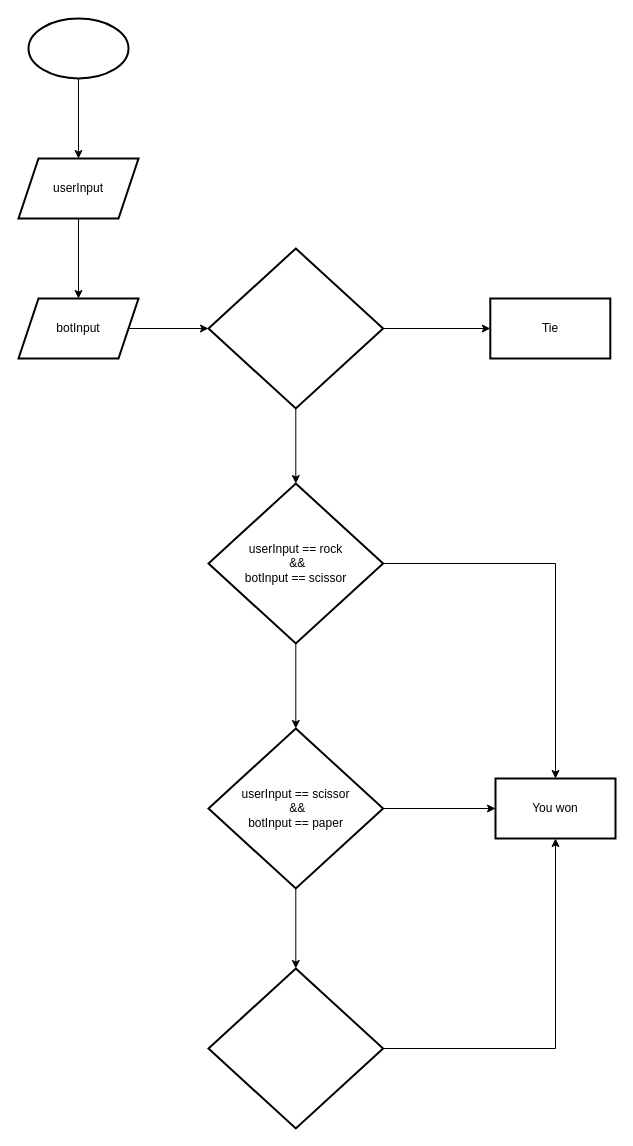
Image size: 633x1146. Some labels were removed from this diagram. The shapes that lost their labels are listed below. From the top down, each one's centre as x and y in pixels, then its label:
(78,48): START
(295,328): userInput == botInput
(295,1048): userInput == paper && botInput == rock
